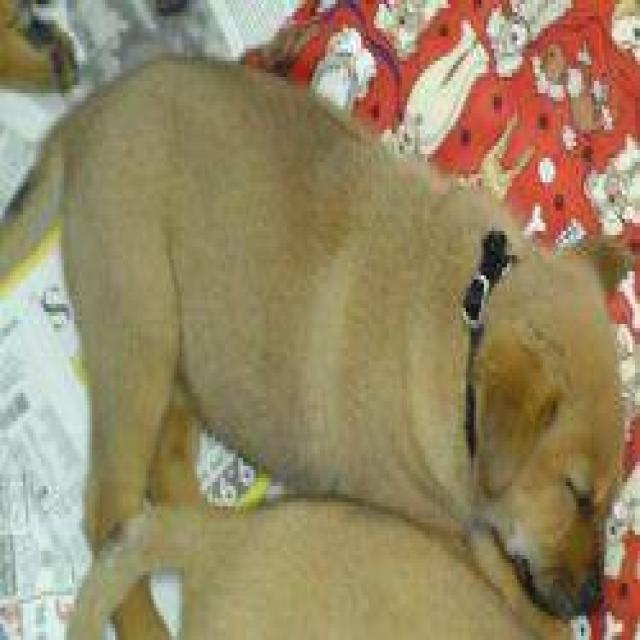dog: (0, 49, 625, 636)
